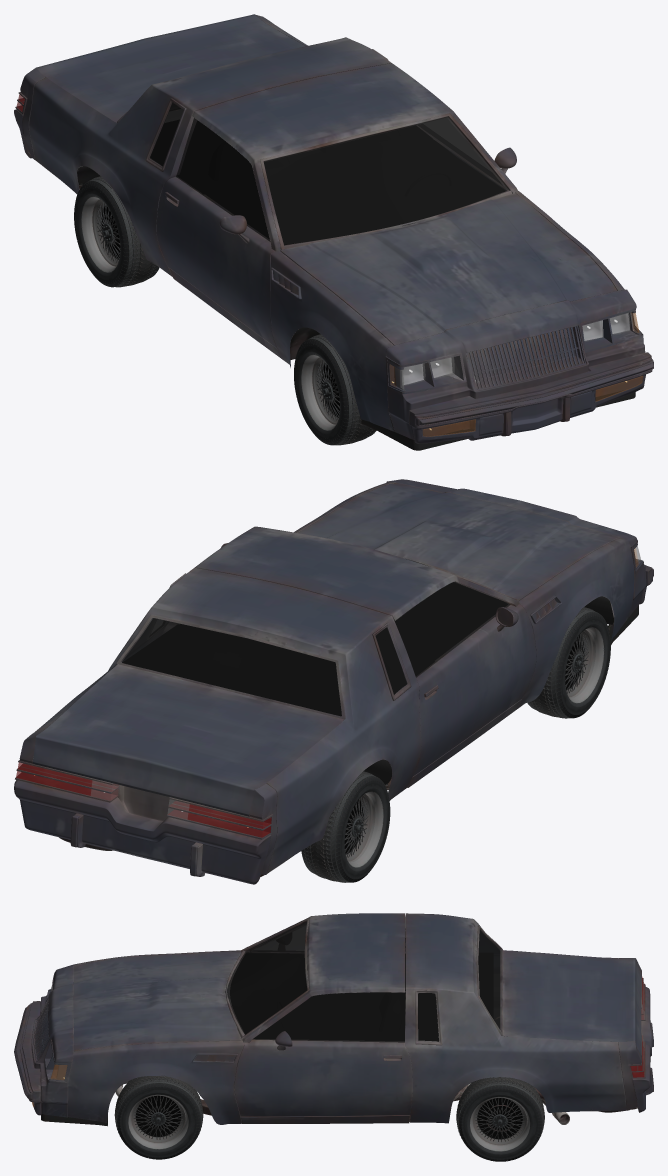
The model's file is 1987_buick_grand_national_regal_gnx-transformed.glb.
The picture shows the model from 3 angles, top to bottom: view 1: azimuth 30°, elevation 25°; view 2: azimuth 150°, elevation 25°; view 3: azimuth 270°, elevation 25°; orthographic projection. The views are drawn at different scales.
Visible parts, largest first — view 1: Object_2, Object_24, Object_14, Object_26, Object_15, Object_16; view 2: Object_2, Object_24, Object_14, Object_26, Object_15, Object_16; view 3: Object_2, Object_24, Object_26, Object_14, Object_16, Object_15.
Part boxes in pixels (box(x1,y1,x2,y2)): Object_2: box(14, 14, 653, 443); Object_24: box(149, 102, 508, 244); Object_14: box(150, 120, 505, 245); Object_26: box(74, 176, 376, 445); Object_15: box(16, 94, 643, 436); Object_16: box(28, 109, 635, 450); Object_2: box(14, 479, 653, 884); Object_24: box(122, 559, 510, 716); Object_14: box(122, 582, 507, 715); Object_26: box(301, 607, 610, 882); Object_15: box(16, 546, 641, 837); Object_16: box(59, 596, 638, 876); Object_2: box(14, 913, 653, 1124); Object_24: box(225, 916, 500, 1042); Object_26: box(114, 1076, 544, 1161); Object_14: box(230, 953, 493, 1041); Object_16: box(41, 974, 637, 1131); Object_15: box(32, 977, 644, 1106).
Bounding box in the file's own units: 2.19 × 1.54 × 5.31.
8 materials, 4 textured.
